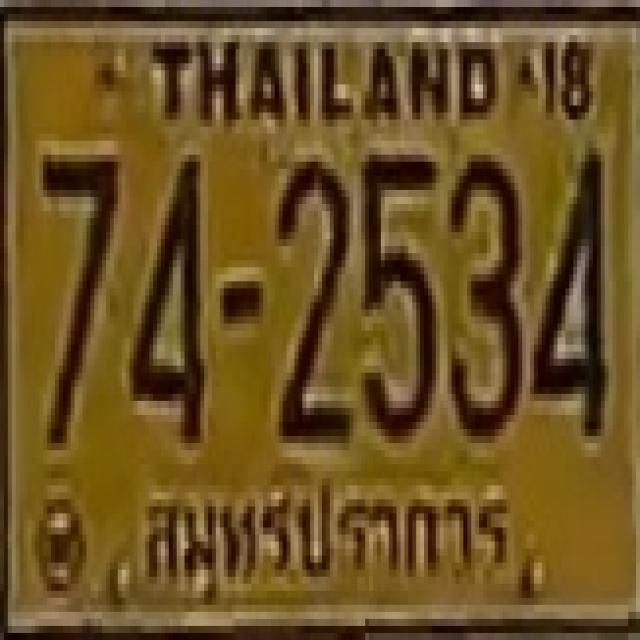2: (275, 155, 345, 436)
3: (449, 152, 524, 438)
4: (530, 141, 609, 437), (128, 148, 202, 436)
5: (359, 151, 433, 440)
7: (40, 146, 115, 441)
SPK: (132, 468, 522, 584)
